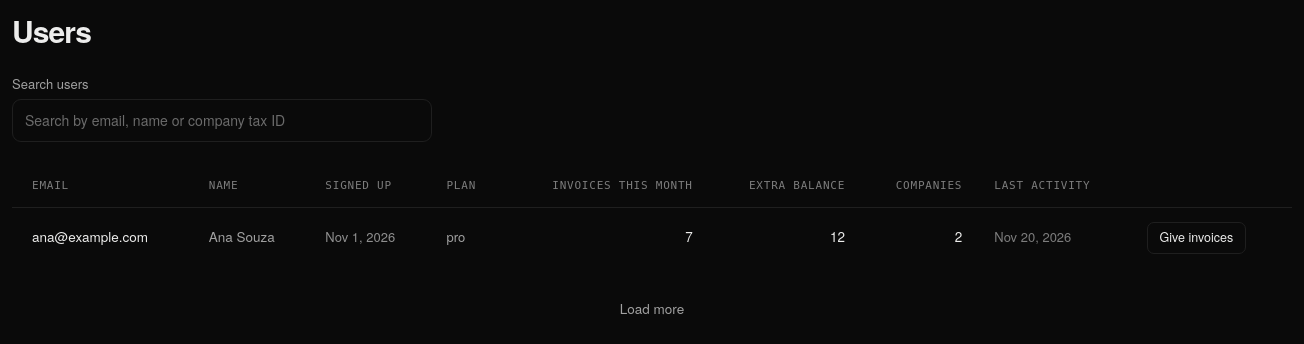
Admin users page › loads more with the next cursor
Click the button "Load more" at (652, 310), box [12,292,1292,328]
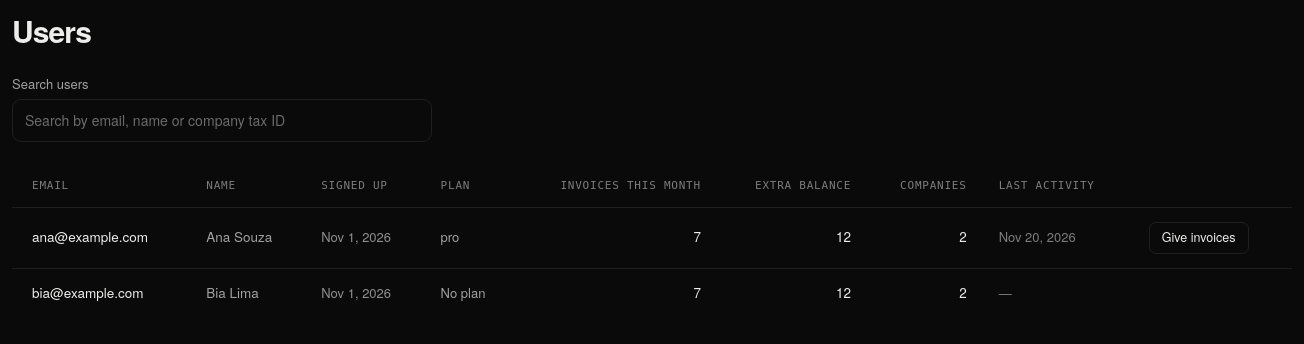
Now the link "bia@example.com" is shown, box [32,282,144,302]
Now the button "Load more" is gone
